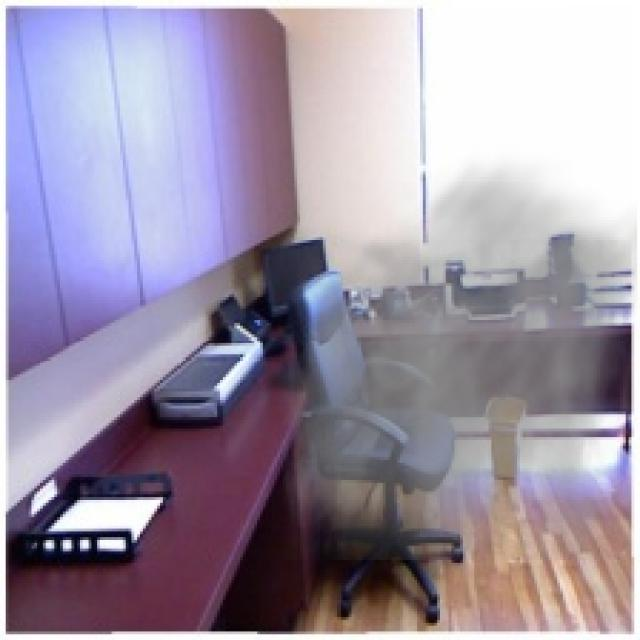smoke: (283, 146, 637, 560)
